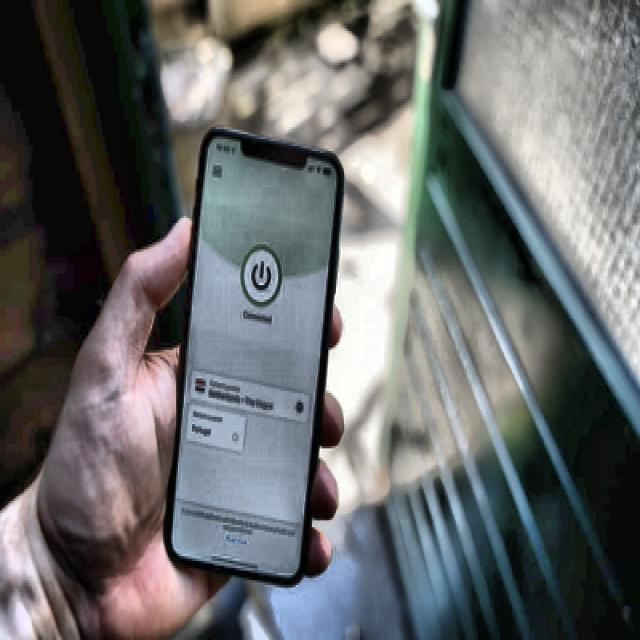Phone: (164, 125, 346, 588)
